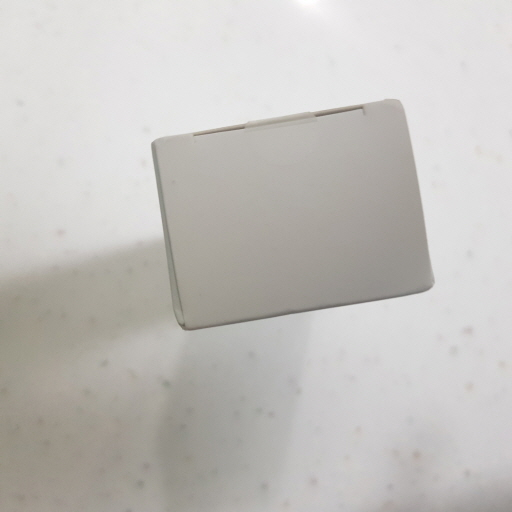Paper_0: (142, 96, 445, 333)
